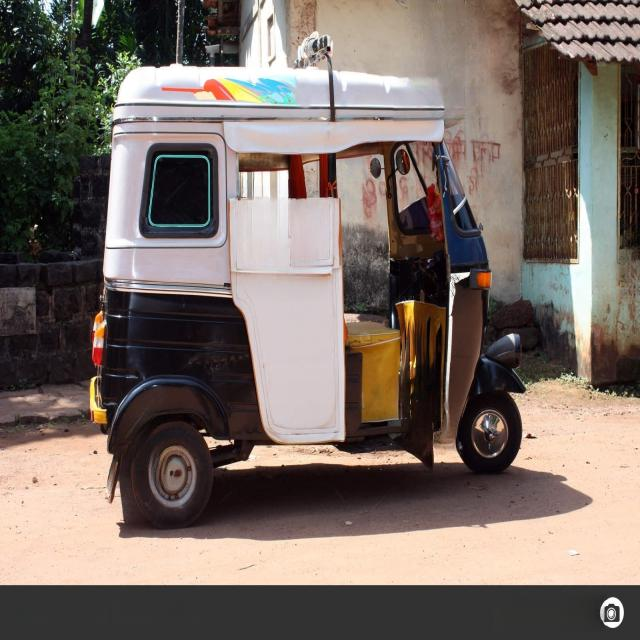autorickshaw: (90, 65, 524, 528)
